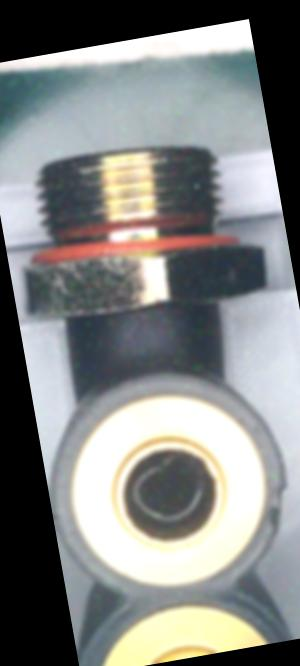bump: (256, 477, 300, 535)
joint line: (143, 335, 153, 359)
off-centered: (123, 445, 211, 531)
white mark: (114, 311, 140, 341), (139, 311, 148, 326)
